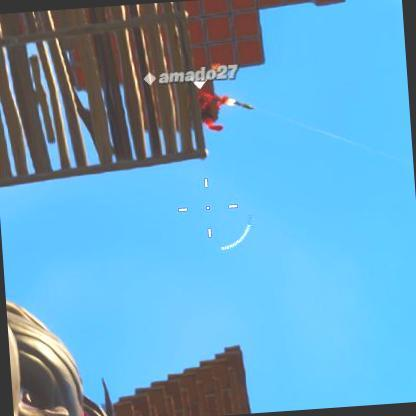person: (194, 90, 234, 130)
